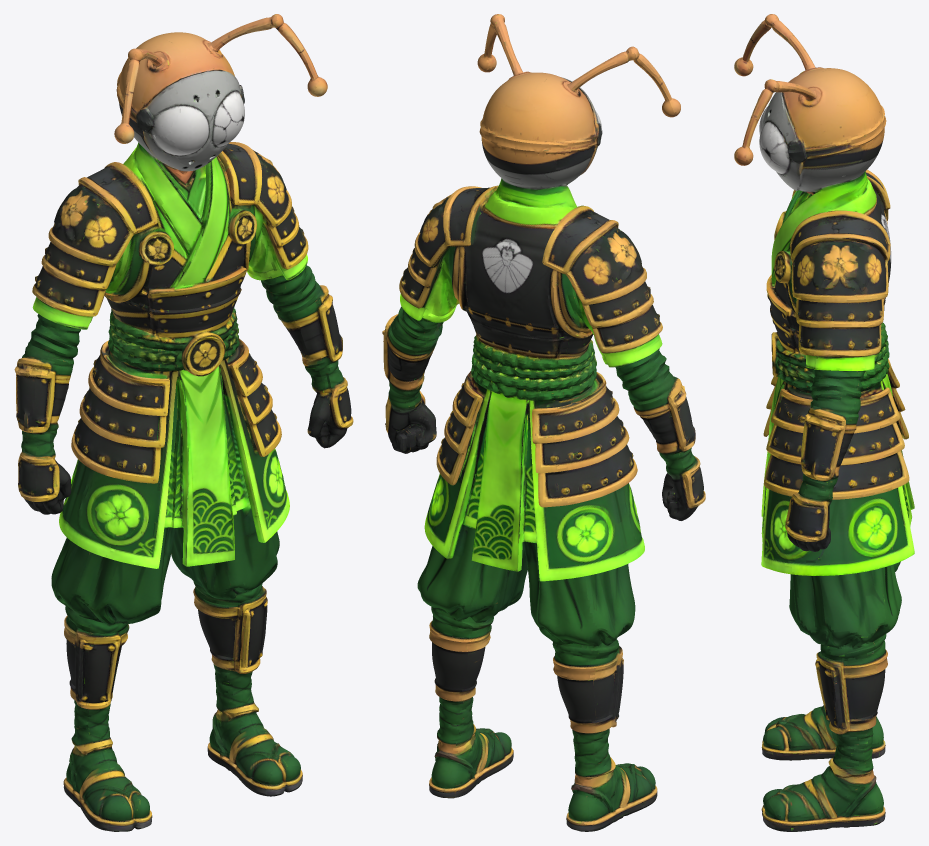
File: rebel_4998_static_source_shogun_v5c4v_q2.glb
3 renders of one model, left to right at view 1: azimuth 30°, elevation 25°; view 2: azimuth 150°, elevation 25°; view 3: azimuth 270°, elevation 25°, orthographic. The views are drawn at different scales.
Visible parts, largest first — view 1: Mesh_0; view 2: Mesh_0; view 3: Mesh_0.
Part boxes in pixels (<box>): Mesh_0: <box>14,14,353,831</box>; Mesh_0: <box>382,14,705,831</box>; Mesh_0: <box>734,14,914,831</box>.
Size of the model in its own units: 0.8358 by 1.9 by 0.4214.
Materials: 1 (1 with a texture image).
